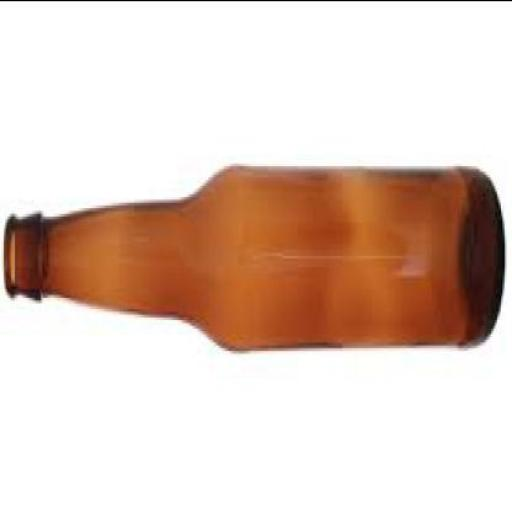glass: (2, 168, 503, 353)
